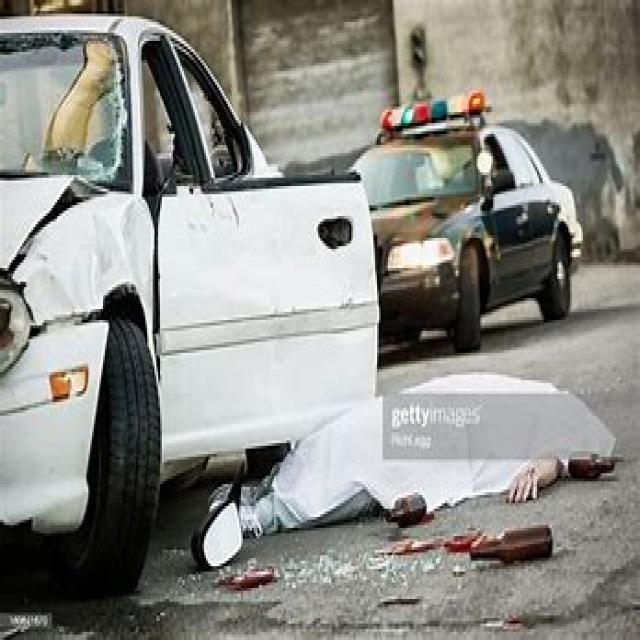Accident: (11, 22, 537, 556)
